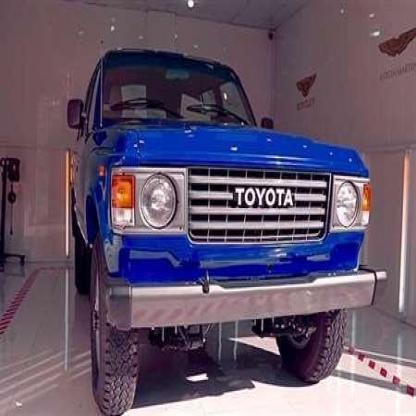Car: (59, 46, 384, 404)
